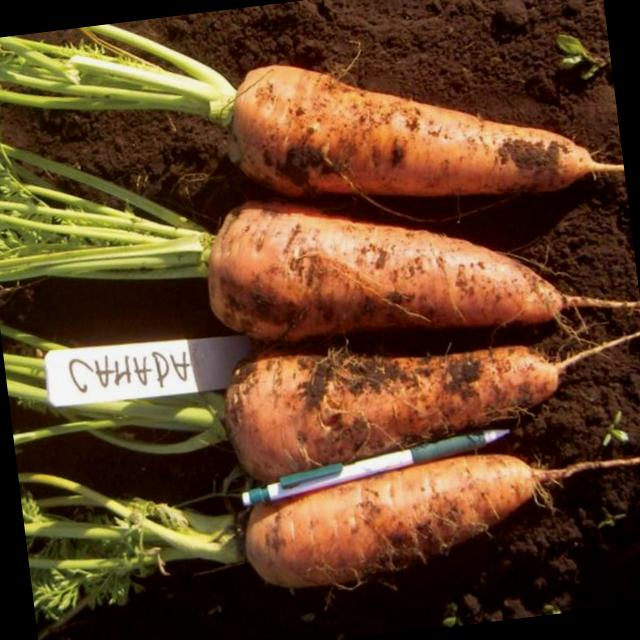carrot: (202, 195, 573, 347), (228, 63, 624, 202), (220, 335, 559, 486), (240, 454, 536, 590)
